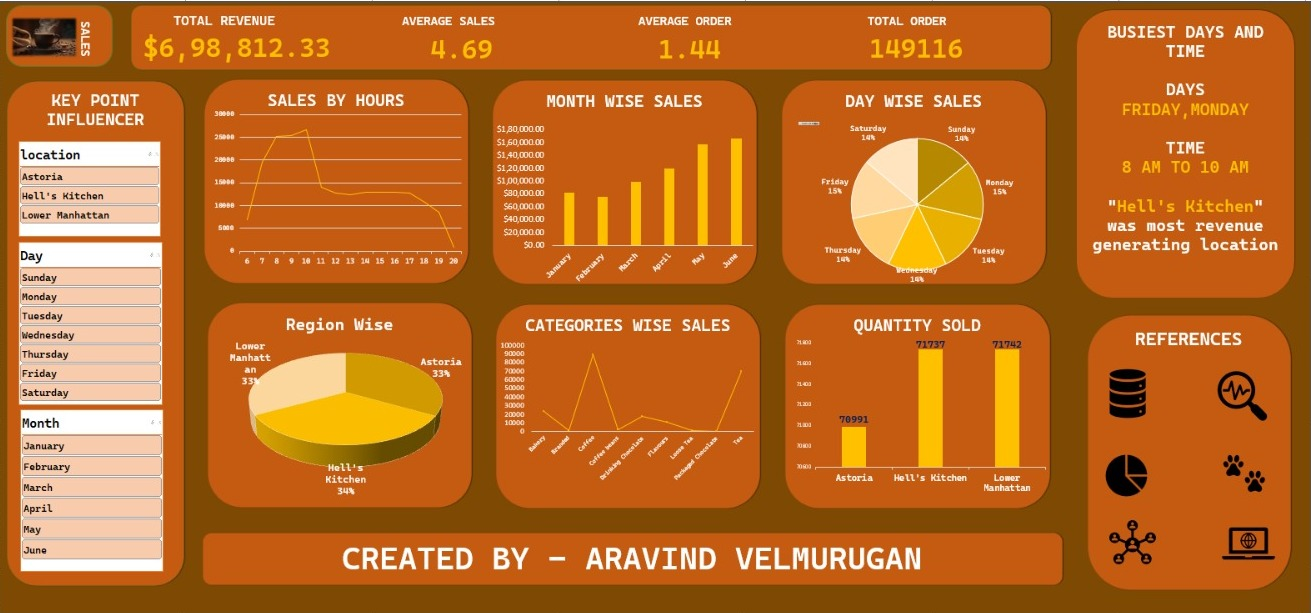

Layout of this report page (visuals, bound fields, positions):
{"tool":"powerbi","page":{"name":"DASHBOARD","canvas":[1300,1010],"ordinal":0},"visuals":[{"type":"image","box":[0,0,1399.7,1010.3],"z":0},{"type":"cardVisual","title":"TOTAL SALES","fields":{"Data":["Sum(Transactions.total_bill)"]},"box":[511.2,29.2,173.3,111.5],"z":1000},{"type":"cardVisual","title":"AVERAGE SALES","fields":{"Data":["Transactions.average_sales"]},"box":[711.9,27.4,180.1,111.5],"z":2000},{"type":"cardVisual","title":"AVERAGE ORDER","fields":{"Data":["Transactions.average_order"]},"box":[916,29.2,171.5,111.5],"z":3000},{"type":"cardVisual","title":"TOTAL ORDER","fields":{"Data":["Transactions.total_order"]},"box":[1108.1,27.4,161.2,111.5],"z":4000},{"type":"lineChart","title":"TOTAL SALES BY HOUR","fields":{"Category":["Transactions.Hour"],"Y":["Sum(Transactions.total_bill)"]},"box":[1901.7,775.6,653.1,319.4],"z":5000},{"type":"clusteredColumnChart","title":"TOTAL SALES BY MONTH","fields":{"Y":["Sum(Transactions.total_bill)"],"Category":["Transactions.Month Name"]},"box":[638.9,507.5,642,191.1],"z":6000},{"type":"pieChart","title":"TOTAL SALES BY DAY","fields":{"Y":["Sum(Transactions.total_bill)"],"Category":["Transactions.day_name"]},"box":[262.9,171.2,347,258.3],"z":7000},{"type":"donutChart","title":"SALES BY SIZE","fields":{"Y":["CountNonNull(Transactions.transaction_id)"],"Category":["Transactions.Custom"]},"box":[262.9,449.4,347,249.2],"z":8000},{"type":"lineClusteredColumnComboChart","title":"SALES BY PRODUCT CATEGORIES","fields":{"Category":["Transactions.product_category"],"Y":["Sum(Transactions.total_bill)"],"Y2":["Sum(Transactions.total_bill)"]},"box":[638.9,171.2,642,321],"z":9000},{"type":"lineChart","title":"TOTAL SALES BY HOUR","fields":{"Category":["Transactions.Hour"],"Y":["Sum(Transactions.total_bill)"]},"box":[262.9,712.3,1018,188],"z":10000},{"type":"slicer","title":"MONTH","fields":{"Values":["Transactions.Month Name"]},"box":[12.2,171.2,229.3,221.6],"z":11000},{"type":"slicer","title":"LOCATION","fields":{"Values":["Transactions.store_location"]},"box":[12.2,408.1,229.3,145.2],"z":12000},{"type":"slicer","title":"DAY","fields":{"Values":["Transactions.day_name"]},"box":[12.2,568.6,229.3,258.3],"z":13000},{"type":"shape","box":[20.6,826.8,197.3,44.6],"z":14000},{"type":"shape","title":"COFFEE SALES","box":[20.6,22.3,478.6,116.6],"z":15000},{"type":"textbox","box":[12,922.9,1267.7,75.5],"z":16000},{"type":"actionButton","box":[20.6,22.3,63.5,58.3],"z":17000},{"type":"actionButton","box":[20.6,101.2,108.1,37.7],"z":18000},{"type":"shape","box":[22.3,871.4,197.3,51.5],"z":19000}]}

Visuals, with their boxes on the page's 1300x1010 design canvas (x1, y1, x2, y2). These are canvas units, not pixel positions in the 1311x613 screenshot, which may show the page scaled, cropped or inside an application window:
image: x1=0 y1=0 x2=1400 y2=1010
"TOTAL SALES" cardVisual: x1=511 y1=29 x2=684 y2=141
"AVERAGE SALES" cardVisual: x1=712 y1=27 x2=892 y2=139
"AVERAGE ORDER" cardVisual: x1=916 y1=29 x2=1088 y2=141
"TOTAL ORDER" cardVisual: x1=1108 y1=27 x2=1269 y2=139
"TOTAL SALES BY HOUR" lineChart: x1=1902 y1=776 x2=2555 y2=1095
"TOTAL SALES BY MONTH" clusteredColumnChart: x1=639 y1=508 x2=1281 y2=699
"TOTAL SALES BY DAY" pieChart: x1=263 y1=171 x2=610 y2=430
"SALES BY SIZE" donutChart: x1=263 y1=449 x2=610 y2=699
"SALES BY PRODUCT CATEGORIES" lineClusteredColumnComboChart: x1=639 y1=171 x2=1281 y2=492
"TOTAL SALES BY HOUR" lineChart: x1=263 y1=712 x2=1281 y2=900
"MONTH" slicer: x1=12 y1=171 x2=242 y2=393
"LOCATION" slicer: x1=12 y1=408 x2=242 y2=553
"DAY" slicer: x1=12 y1=569 x2=242 y2=827
shape: x1=21 y1=827 x2=218 y2=871
"COFFEE SALES" shape: x1=21 y1=22 x2=499 y2=139
textbox: x1=12 y1=923 x2=1280 y2=998
actionButton: x1=21 y1=22 x2=84 y2=81
actionButton: x1=21 y1=101 x2=129 y2=139
shape: x1=22 y1=871 x2=220 y2=923
